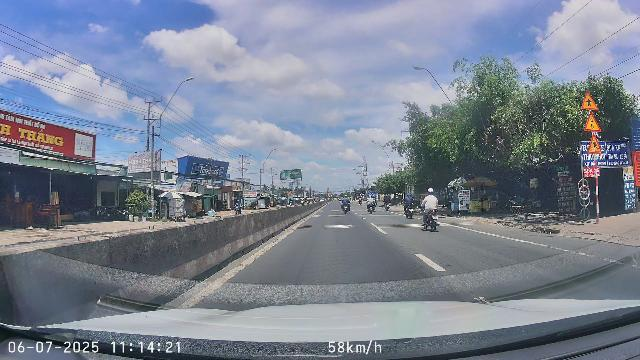207-giao-nhau-voi-duong-khong-uu-tien: (582, 91, 598, 111)
209-giao-nhau-co-tin-hieu-den: (585, 111, 601, 132)
224-duong-nguoi-di-bo-cat-ngang: (587, 133, 602, 154)
